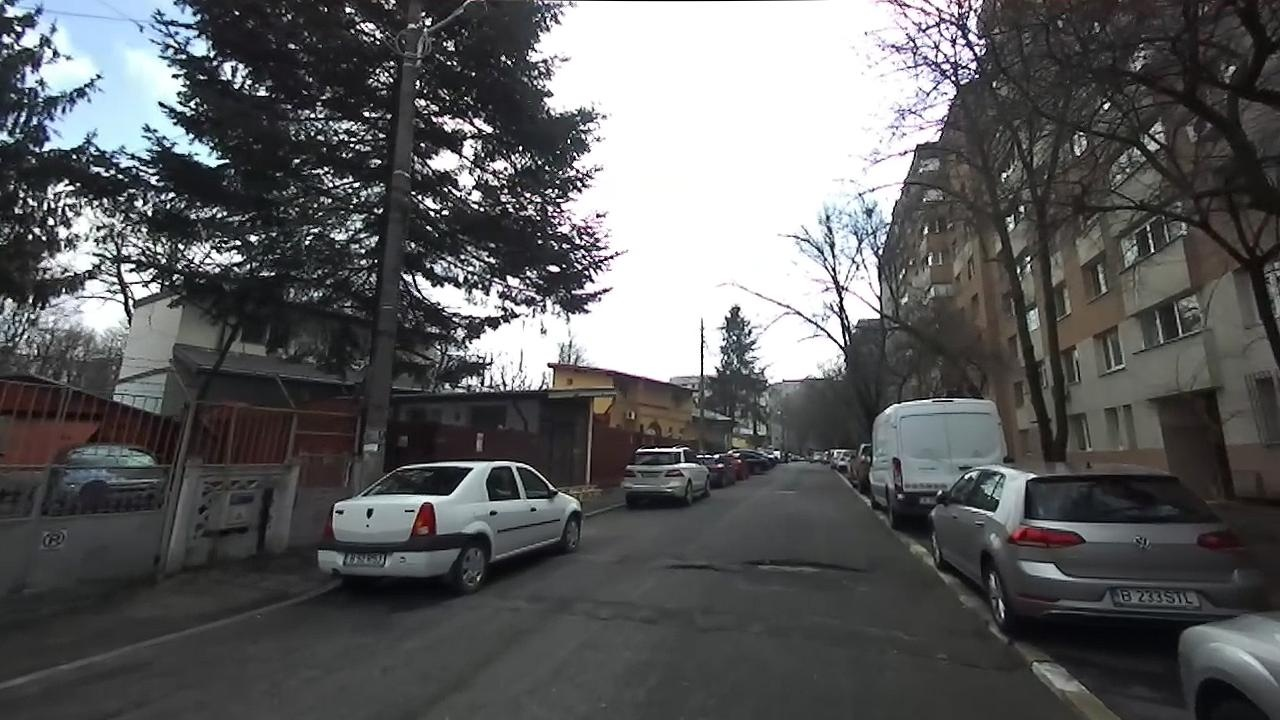pothole: (744, 555, 868, 576), (665, 561, 727, 573)
